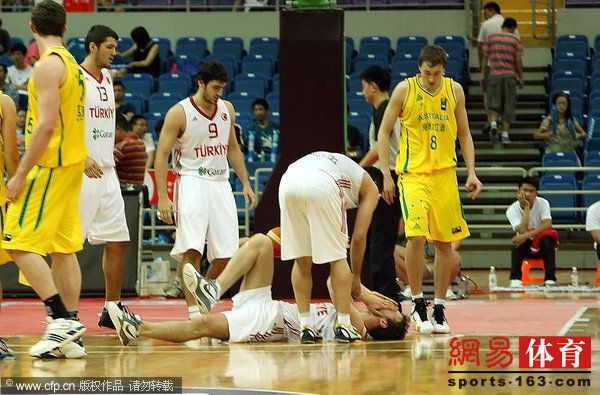10+: (1, 1, 599, 342)
down: (98, 236, 422, 351)
